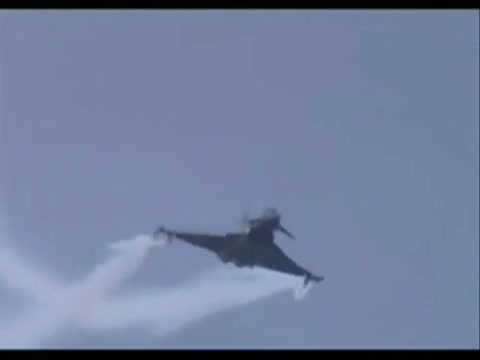aeroplane: (155, 207, 326, 289)
